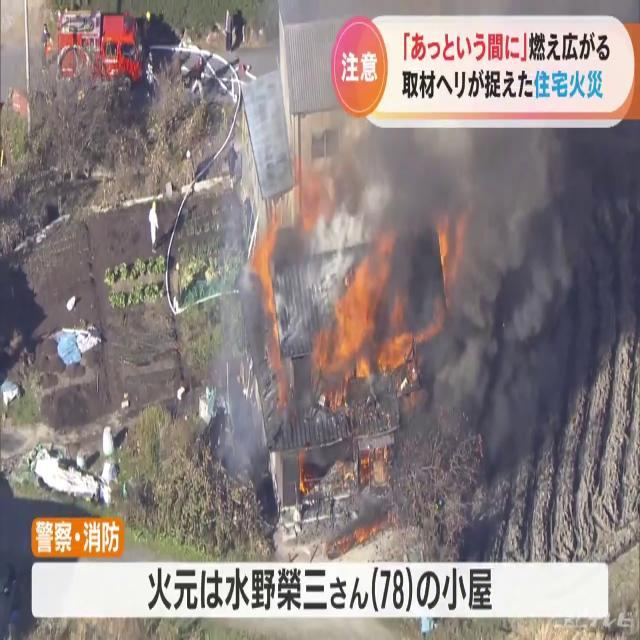Fire: (308, 224, 428, 408), (253, 201, 288, 324)
Smoke: (326, 114, 640, 502)
